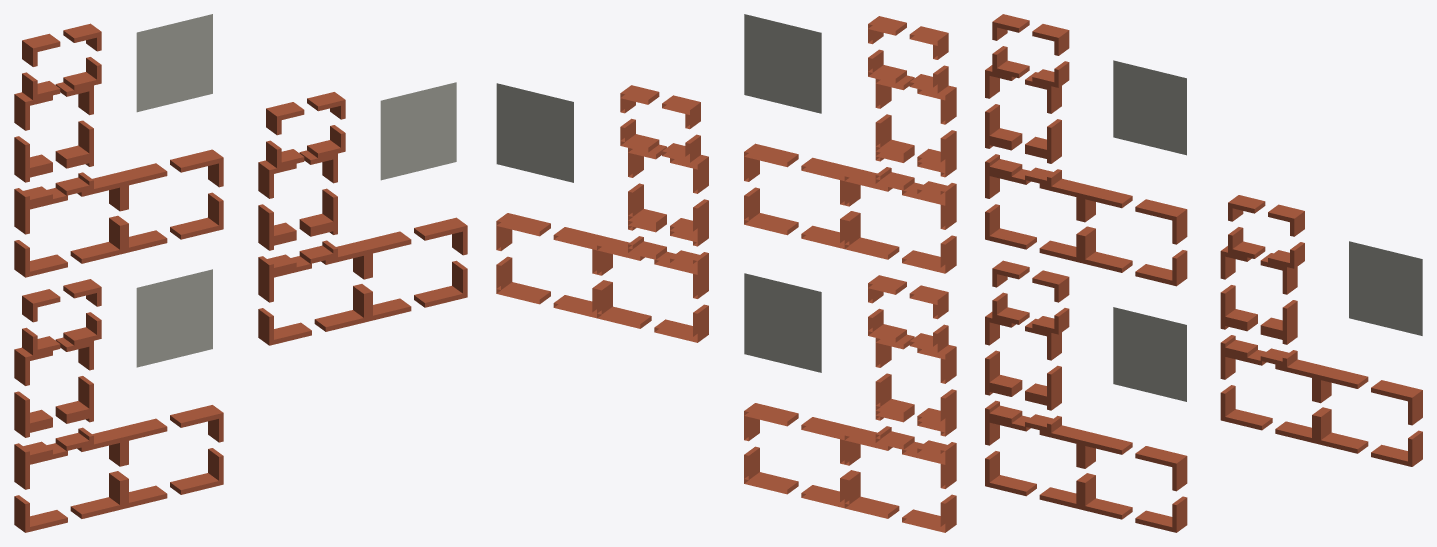
Rendered from construction_0.glb.
The picture shows the model from 3 angles, left to right: view 1: azimuth 30°, elevation 25°; view 2: azimuth 150°, elevation 25°; view 3: azimuth 330°, elevation 25°; orthographic projection. The views are drawn at different scales.
Visible parts, largest first — view 1: t11_g42, t13_g42, t32_g42, t22_g40, t03_g40, t01_g40, t02_g39, t21_g39, t00_g39, t31_g41, t12_g41, t10_g41; view 2: t32_g42, t11_g42, t13_g42, t00_g39, t02_g39, t01_g40, t22_g40, t03_g40, t21_g39, t31_g41, t12_g41, t10_g41; view 3: t13_g42, t11_g42, t32_g42, t22_g40, t03_g40, t01_g40, t21_g39, t02_g39, t00_g39, t10_g41, t12_g41, t31_g41.
Boxes of the visible parts, left/top/right/bottom form: t11_g42: left=136, top=269, right=212, bottom=367; t13_g42: left=136, top=14, right=212, bottom=112; t32_g42: left=380, top=82, right=456, bottom=180; t22_g40: left=258, top=92, right=345, bottom=241; t03_g40: left=14, top=23, right=101, bottom=173; t01_g40: left=14, top=279, right=101, bottom=429; t02_g39: left=14, top=156, right=124, bottom=277; t21_g39: left=258, top=224, right=368, bottom=345; t00_g39: left=14, top=411, right=124, bottom=532; t31_g41: left=358, top=217, right=467, bottom=321; t12_g41: left=114, top=149, right=223, bottom=253; t10_g41: left=114, top=405, right=223, bottom=508; t32_g42: left=496, top=83, right=573, bottom=182; t11_g42: left=744, top=273, right=821, bottom=372; t13_g42: left=744, top=14, right=821, bottom=113; t00_g39: left=844, top=407, right=956, bottom=532; t02_g39: left=844, top=148, right=956, bottom=273; t01_g40: left=868, top=275, right=956, bottom=427; t22_g40: left=620, top=85, right=708, bottom=237; t03_g40: left=868, top=16, right=956, bottom=168; t21_g39: left=597, top=217, right=708, bottom=342; t31_g41: left=496, top=213, right=607, bottom=318; t12_g41: left=744, top=143, right=855, bottom=249; t10_g41: left=744, top=403, right=855, bottom=508; t13_g42: left=1113, top=60, right=1186, bottom=155; t11_g42: left=1113, top=307, right=1186, bottom=401; t32_g42: left=1349, top=241, right=1422, bottom=335; t22_g40: left=1220, top=195, right=1304, bottom=336; t03_g40: left=985, top=14, right=1069, bottom=155; t01_g40: left=985, top=260, right=1069, bottom=402; t21_g39: left=1220, top=319, right=1326, bottom=443; t02_g39: left=985, top=138, right=1090, bottom=262; t00_g39: left=985, top=385, right=1090, bottom=509; t10_g41: left=1081, top=432, right=1187, bottom=532; t12_g41: left=1081, top=186, right=1187, bottom=286; t31_g41: left=1316, top=366, right=1422, bottom=466.
Size of the model in its own units: 58 by 60.5 by 2.5.
